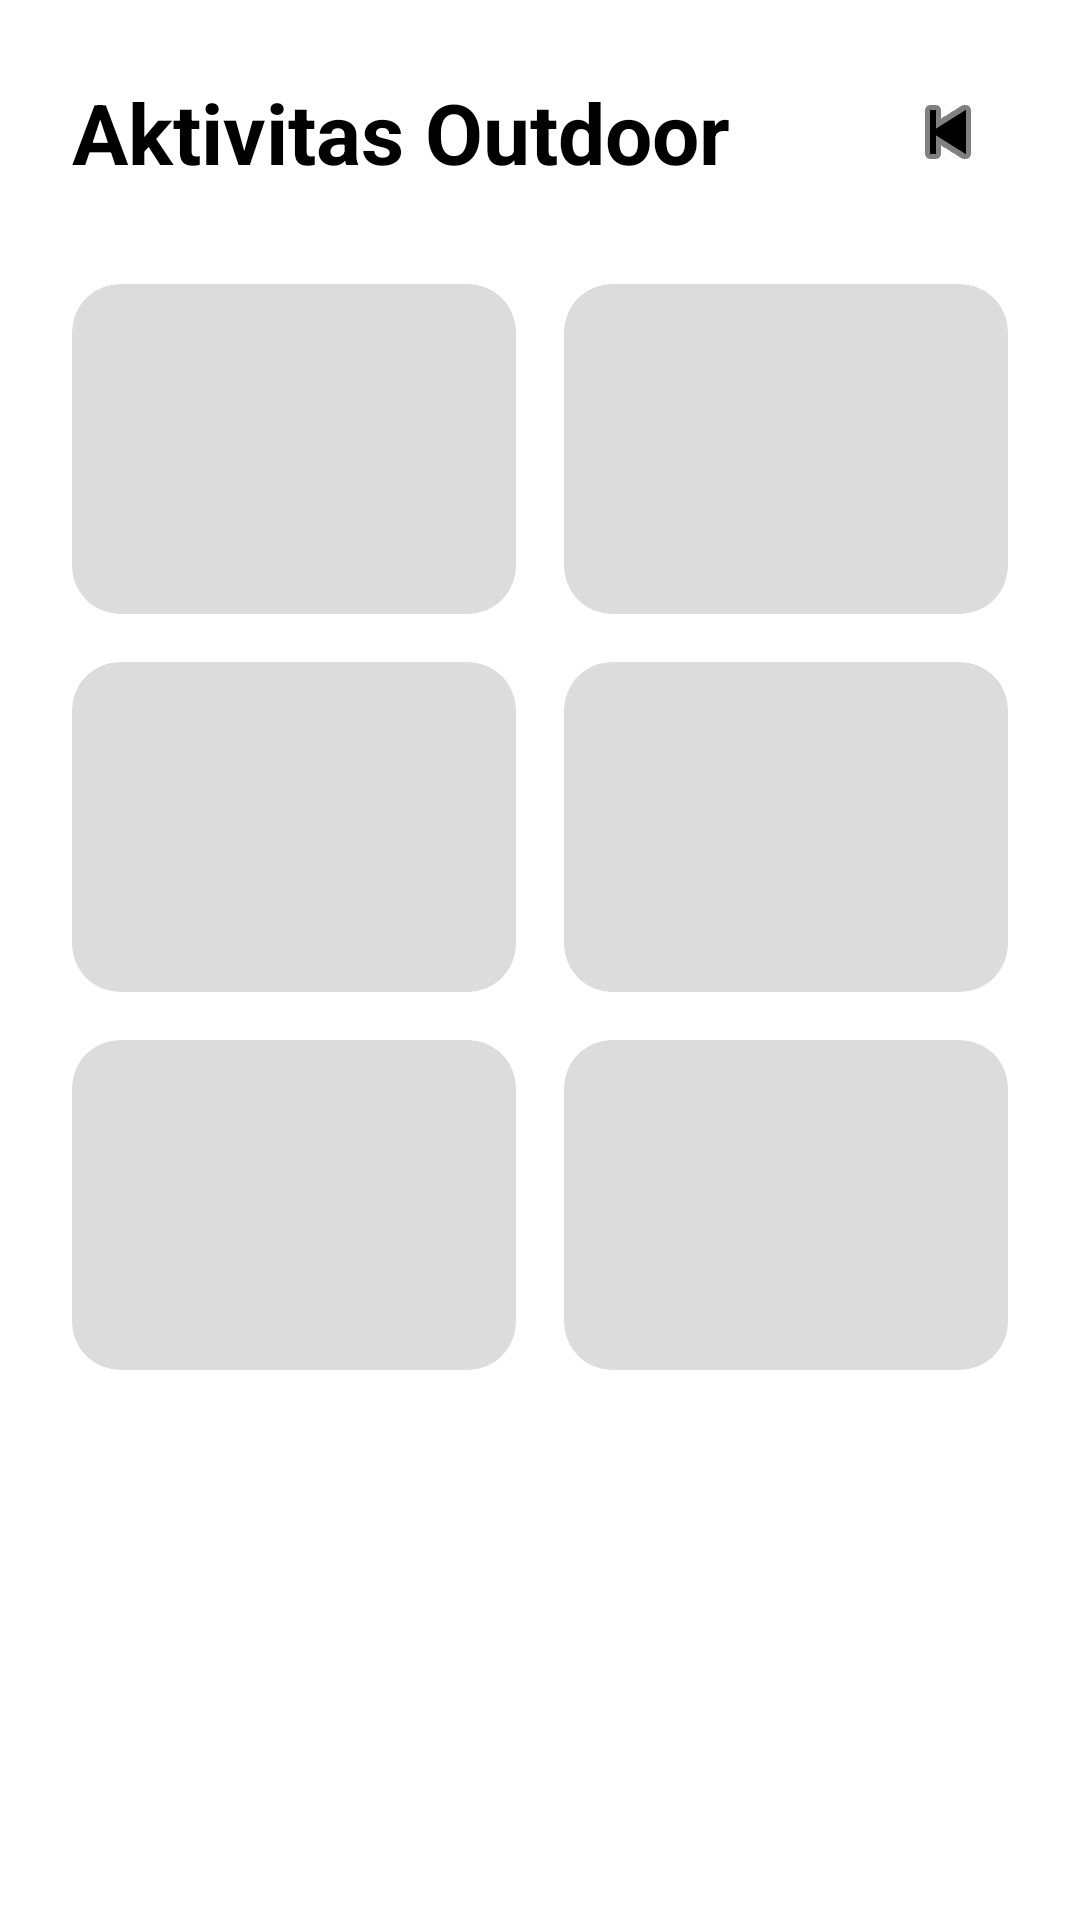

Where icons sit on this 1080px×1920px app screen, as box=[x1, y1, x2, y2]:
previous: box=[925, 105, 971, 159]
